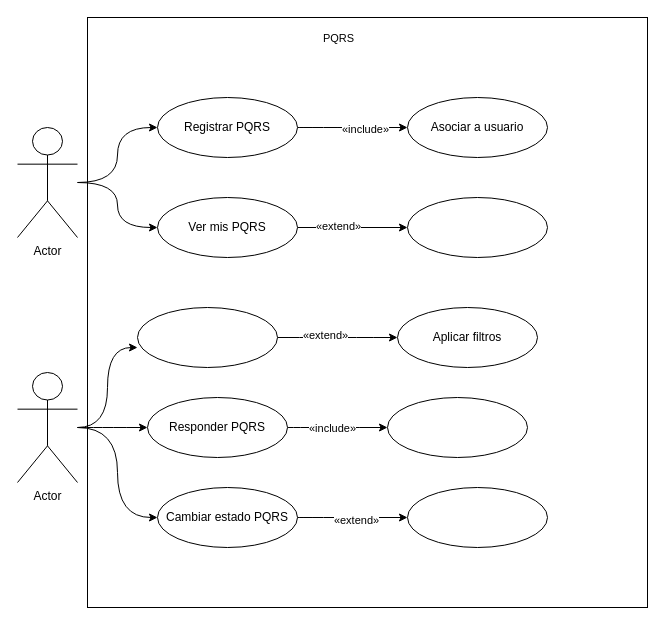
The diagram is 665 pixels wide and 625 high, and some of its shapes have lost their labels. The box of each missing label's shape, as (x1, y1, x2, y2) in pixels:
Cerrar PQRS: (406, 486, 548, 548)
Filtrar por estado: (406, 196, 548, 258)
Registrar actividad: (386, 396, 528, 458)
Ver todas las PQRS: (136, 306, 278, 368)
